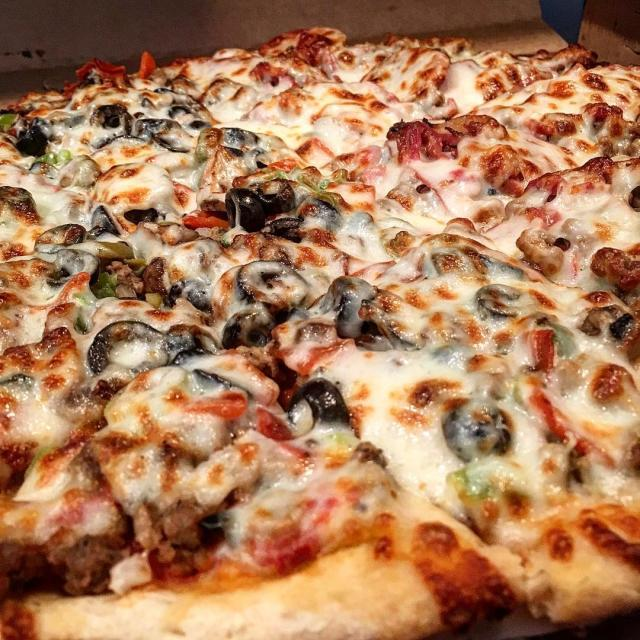black_olives: (88, 319, 166, 382), (448, 404, 514, 459), (239, 262, 308, 310), (232, 180, 289, 232), (212, 127, 280, 164), (294, 384, 350, 428), (341, 309, 397, 342), (233, 312, 281, 349), (166, 326, 221, 355), (193, 377, 257, 399), (484, 286, 522, 317), (332, 285, 379, 303), (304, 201, 347, 219), (90, 105, 133, 122), (167, 134, 196, 159), (98, 201, 117, 239), (24, 124, 46, 154), (476, 260, 520, 275), (172, 106, 206, 125), (276, 217, 305, 239), (98, 267, 121, 293), (125, 203, 166, 215), (9, 381, 39, 393), (46, 271, 72, 284), (29, 123, 40, 150), (132, 116, 164, 125)
pizza: (0, 28, 640, 640)
